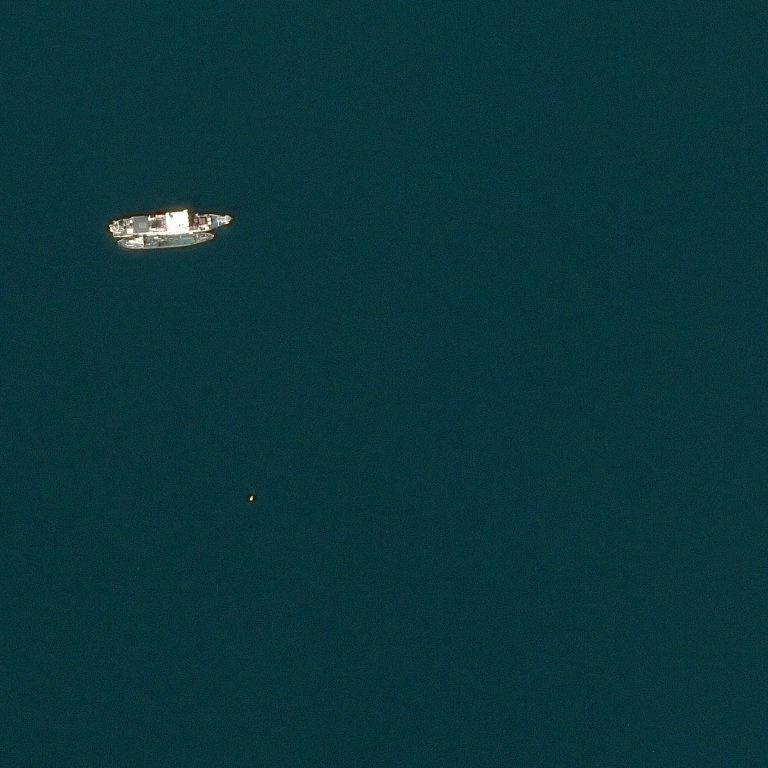ship: (144, 208, 195, 239), (109, 228, 115, 233), (228, 217, 233, 222), (108, 223, 115, 226), (249, 500, 253, 502), (0, 496, 2, 497), (251, 499, 252, 499), (233, 496, 237, 496)
